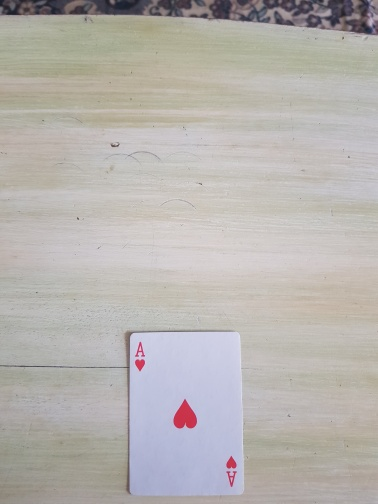ace: (128, 331, 245, 497)
